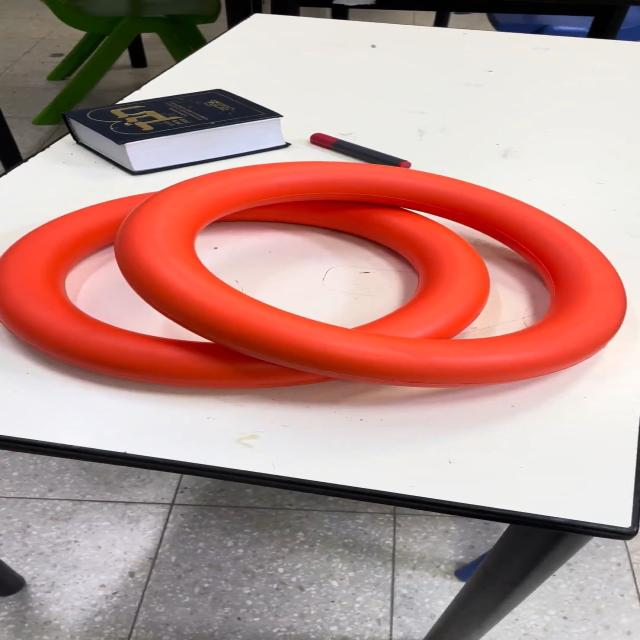note: (111, 160, 628, 392), (1, 178, 490, 391)
